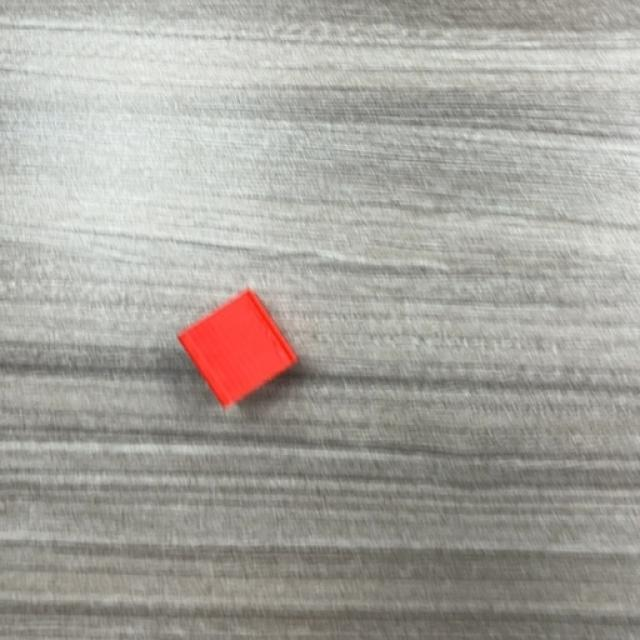Rojo: (176, 290, 299, 410)
